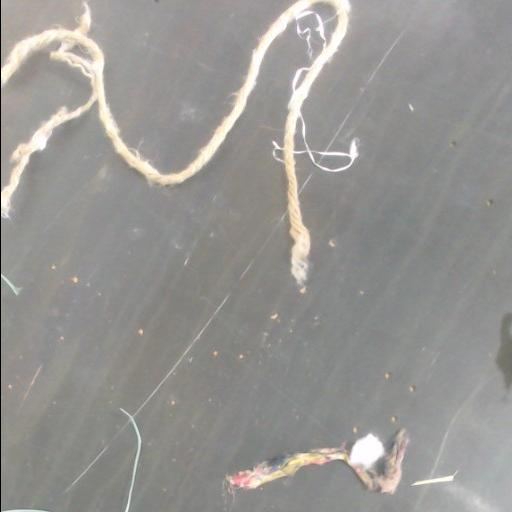cloth: (226, 428, 408, 493)
conveyor belt: (1, 0, 512, 511), (90, 0, 291, 170), (1, 51, 89, 175), (1, 0, 79, 54)
jute: (1, 0, 350, 282)
thread: (119, 294, 228, 511), (295, 116, 358, 172), (297, 10, 324, 53), (411, 471, 456, 485), (1, 274, 20, 295), (503, 314, 512, 340), (294, 68, 304, 84), (1, 508, 48, 511), (273, 141, 280, 160)
